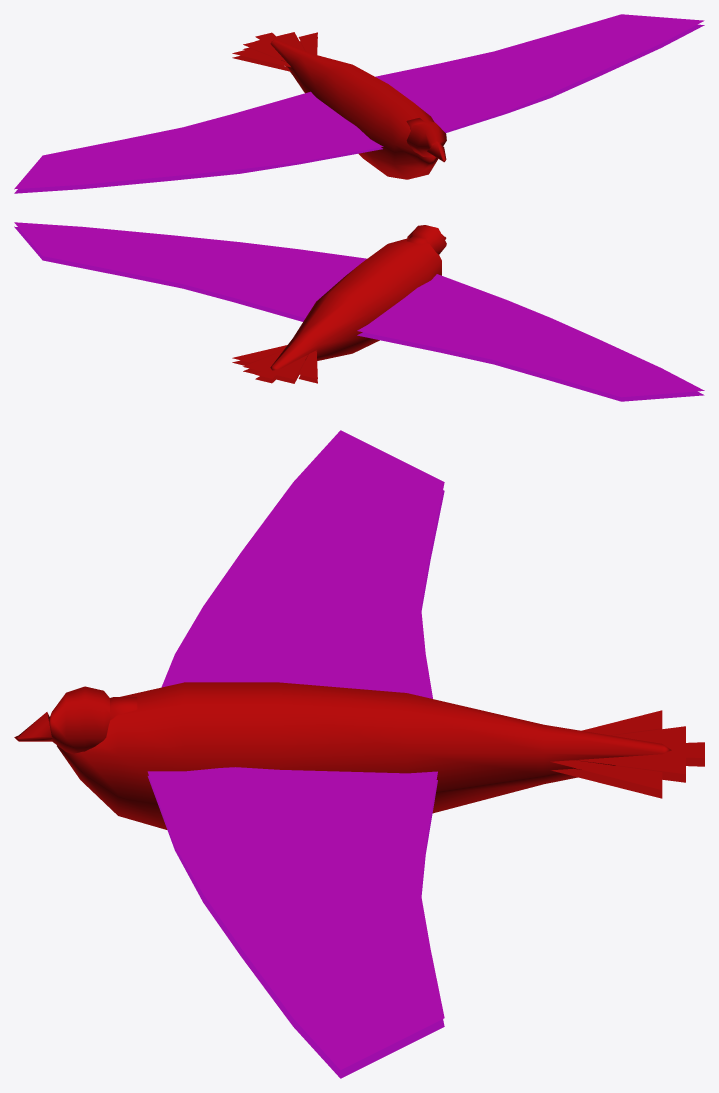
Rendered from gyrfalcon.glb.
The picture shows the model from 3 angles, top to bottom: view 1: azimuth 30°, elevation 25°; view 2: azimuth 150°, elevation 25°; view 3: azimuth 270°, elevation 25°; orthographic projection. The views are drawn at different scales.
Visible parts, largest first — view 1: bird; view 2: bird; view 3: bird.
Part boxes in pixels (x1,y1,x2,y2): bird: (14,14,704,193); bird: (14,222,704,401); bird: (14,430,704,1078).
Bounding box in the file's own units: 1.25 × 0.1172 × 0.5703.
